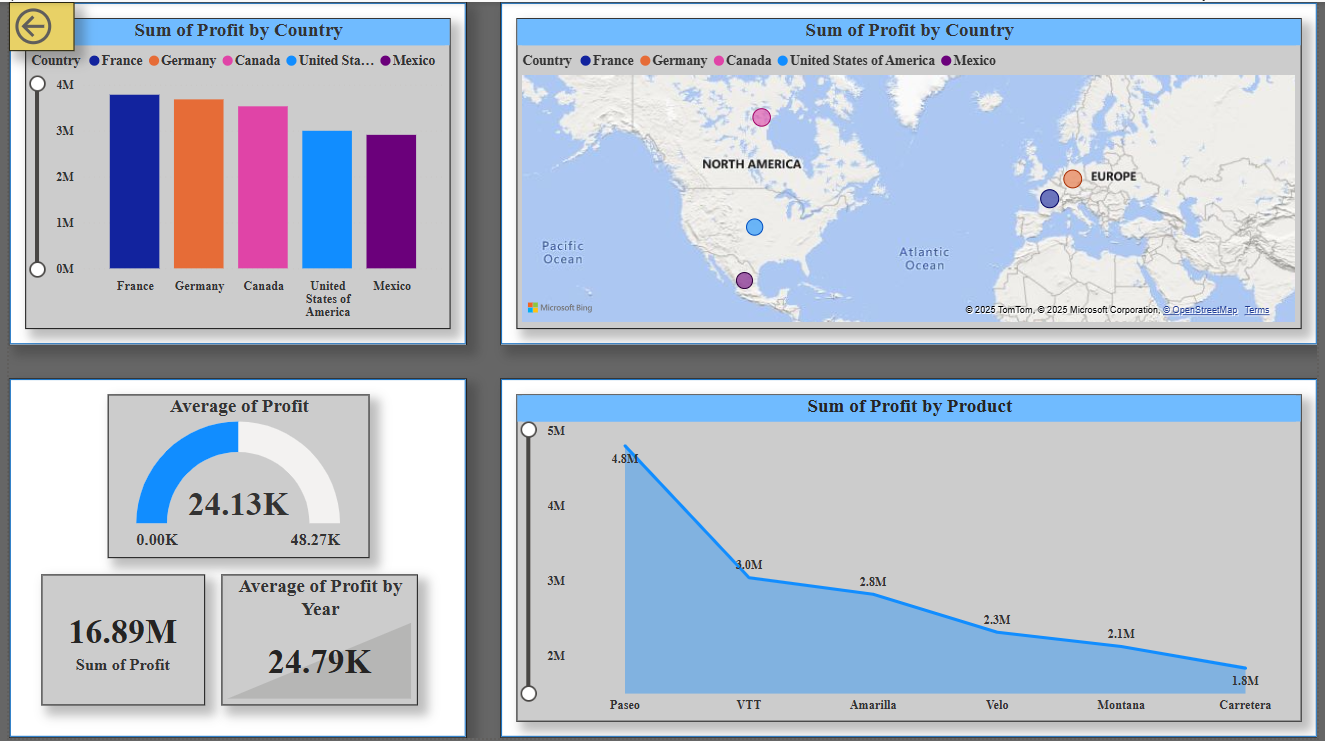

What the dashboard file says about the page in this screenshot:
{"tool":"powerbi","page":{"name":"Profit","canvas":[1280,720],"ordinal":2},"visuals":[{"type":"shape","box":[480,368,800,352],"z":0},{"type":"shape","box":[480,0,800,336],"z":1000},{"type":"shape","box":[0,368,448,352],"z":2000},{"type":"shape","box":[0,0,448,336],"z":3000},{"type":"columnChart","title":"Sum of Profit by Country ","fields":{"Category":["financials.Country"],"Y":["Sum(financials.Profit)"],"Series":["financials.Country"]},"box":[16,16,416,304],"z":4000},{"type":"map","title":"Sum of Profit by Country ","fields":{"Category":["financials.Country"],"Series":["financials.Country"],"Size":["Sum(financials.Profit)"]},"box":[496,16,768,304],"z":5000},{"type":"lineChart","fields":{"Category":["financials.Product"],"Y":["Sum(financials.Profit)"]},"box":[496,384,768,320],"z":6000},{"type":"gauge","fields":{"Y":["Avg(financials.Profit)"]},"box":[96,384,256,160],"z":7000},{"type":"kpi","fields":{"Indicator":["Avg(financials.Profit)"],"TrendLine":["financials.Year"]},"box":[208,560,192,128],"z":8000},{"type":"card","fields":{"Values":["Sum(financials.Profit)"]},"box":[32,560,160,128],"z":9000},{"type":"actionButton","box":[0,0,64,48],"z":11000}]}

Visuals, with their boxes in screenshot pixels (x1, y1, x2, y2), scaled from the page's 1280x720 canvas onto the 1325x741 screenshot:
shape: 497,379,1324,740
shape: 497,0,1324,346
shape: 0,379,464,740
shape: 0,0,464,346
"Sum of Profit by Country " columnChart: 17,16,447,329
"Sum of Profit by Country " map: 513,16,1308,329
lineChart - financials.Product x Sum(financials.Profit): 513,395,1308,725
gauge - Avg(financials.Profit): 99,395,364,560
kpi - Avg(financials.Profit) x financials.Year: 215,576,414,708
card - Sum(financials.Profit): 33,576,199,708
actionButton: 0,0,66,49
